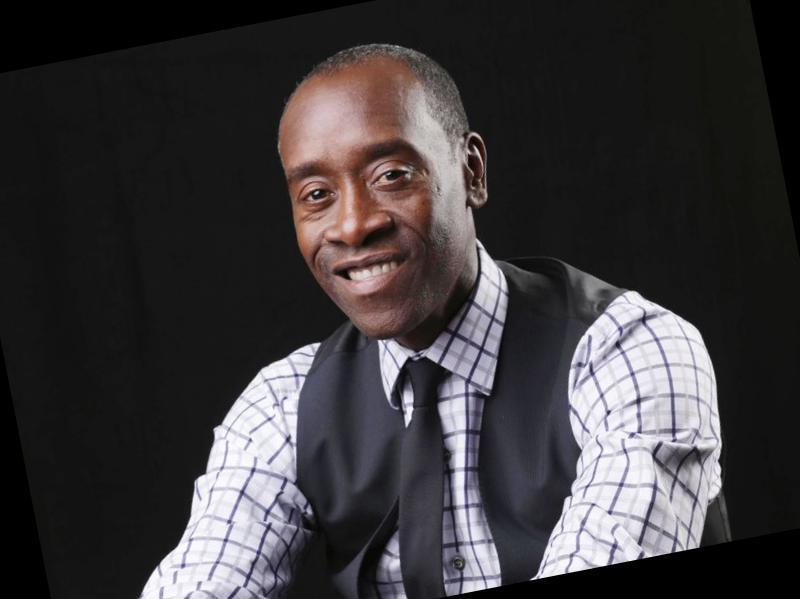Sober: (282, 85, 451, 331)
